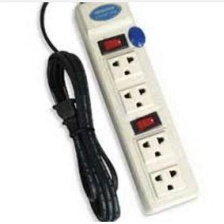three_eye_plug: (71, 0, 205, 218)
